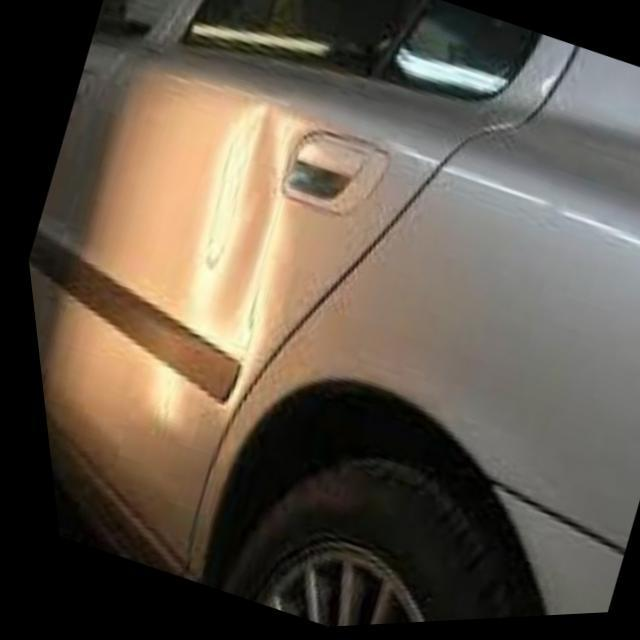dent: (140, 106, 294, 432)
